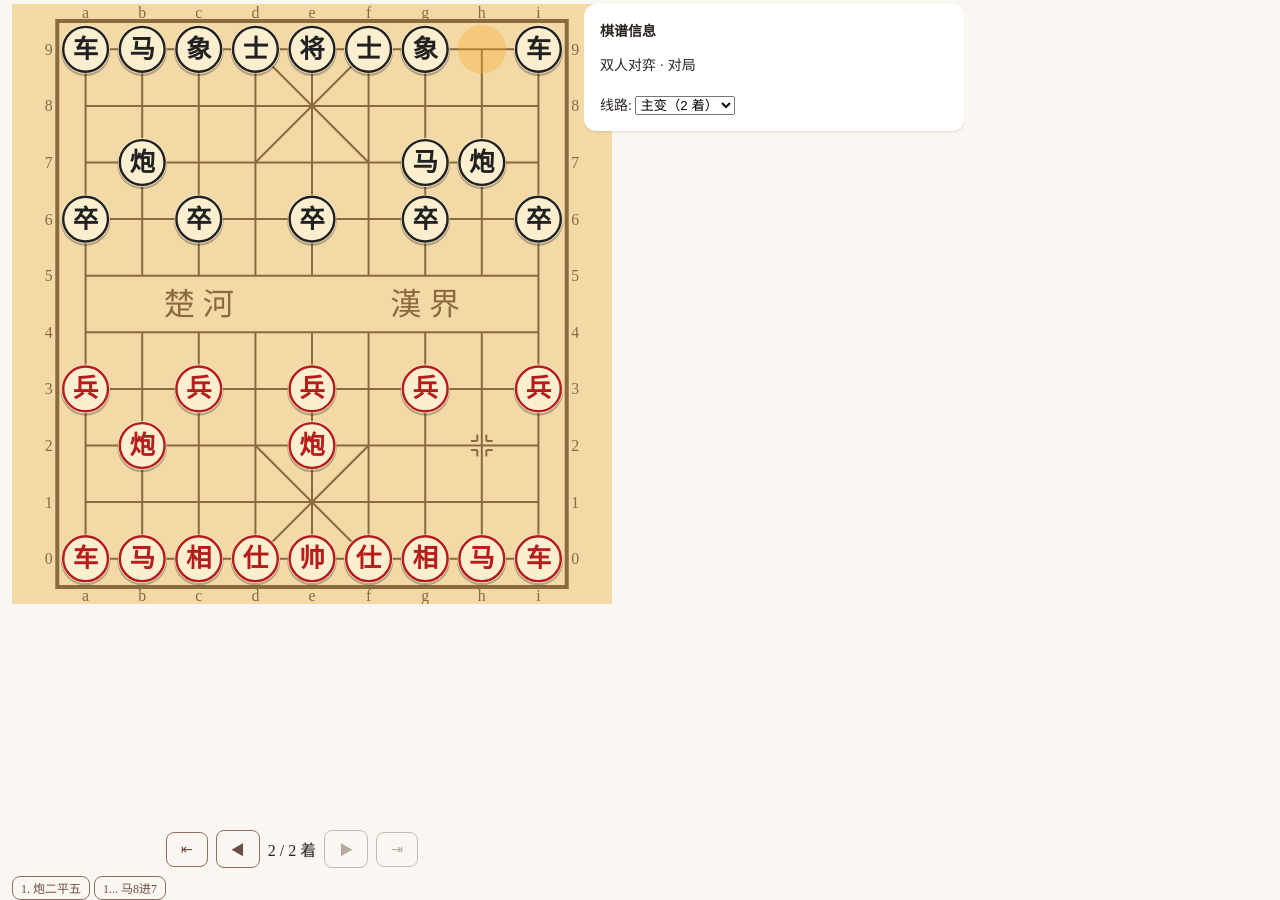
it: 棋谱详情（TC-DET） › TC-DET-003 点击中文记谱芯片跳转到对应局面
The image size is (1280, 900).
(page scrolled)
Expected: the text "棋谱信息" is shown, [600,24,656,39]
Step 1. Click the button "1. 炮二平五" → (51, 888), box [12,876,90,899]
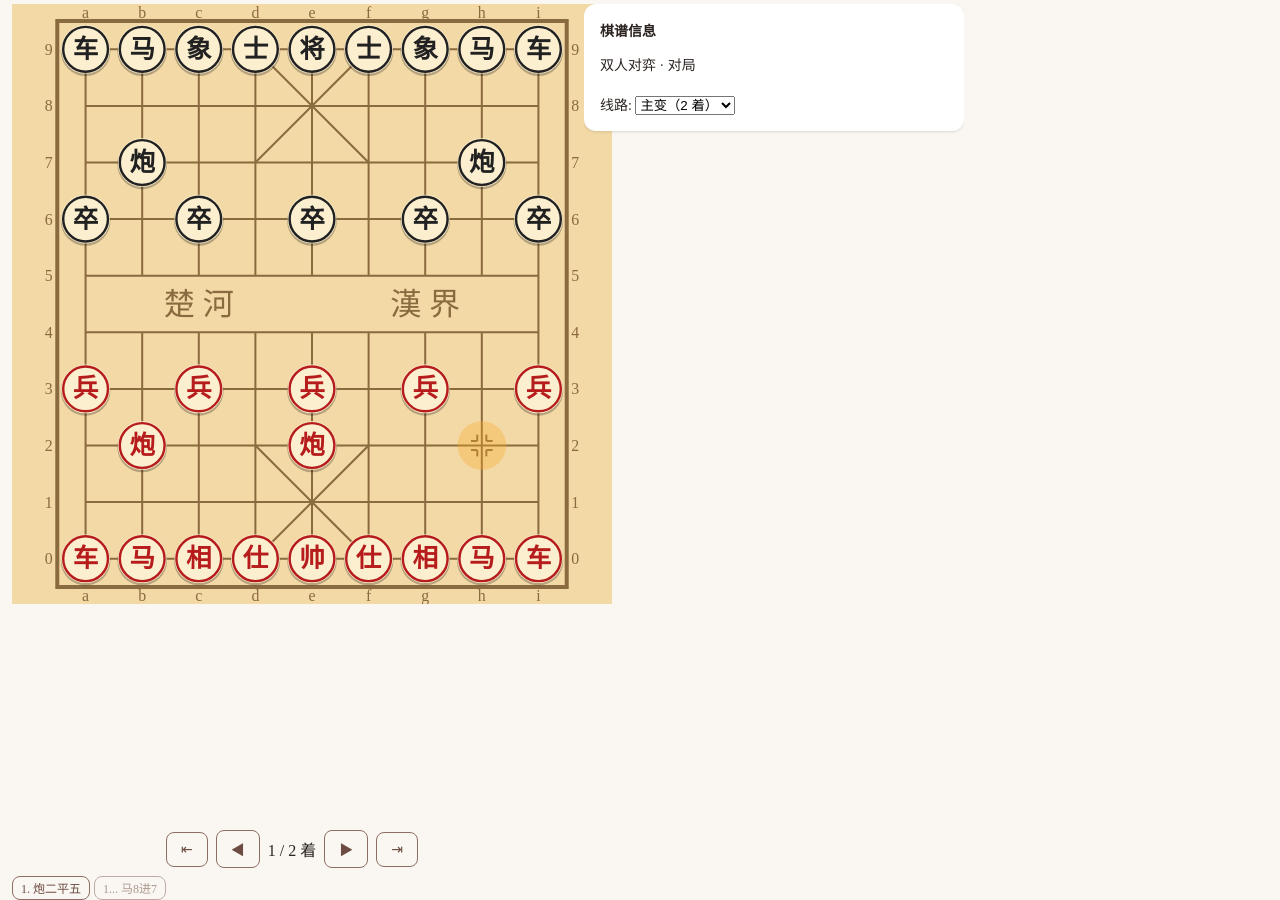
Expected: the text with test id "replay-position" reads "1 / 2 着", [268,837,316,861]
